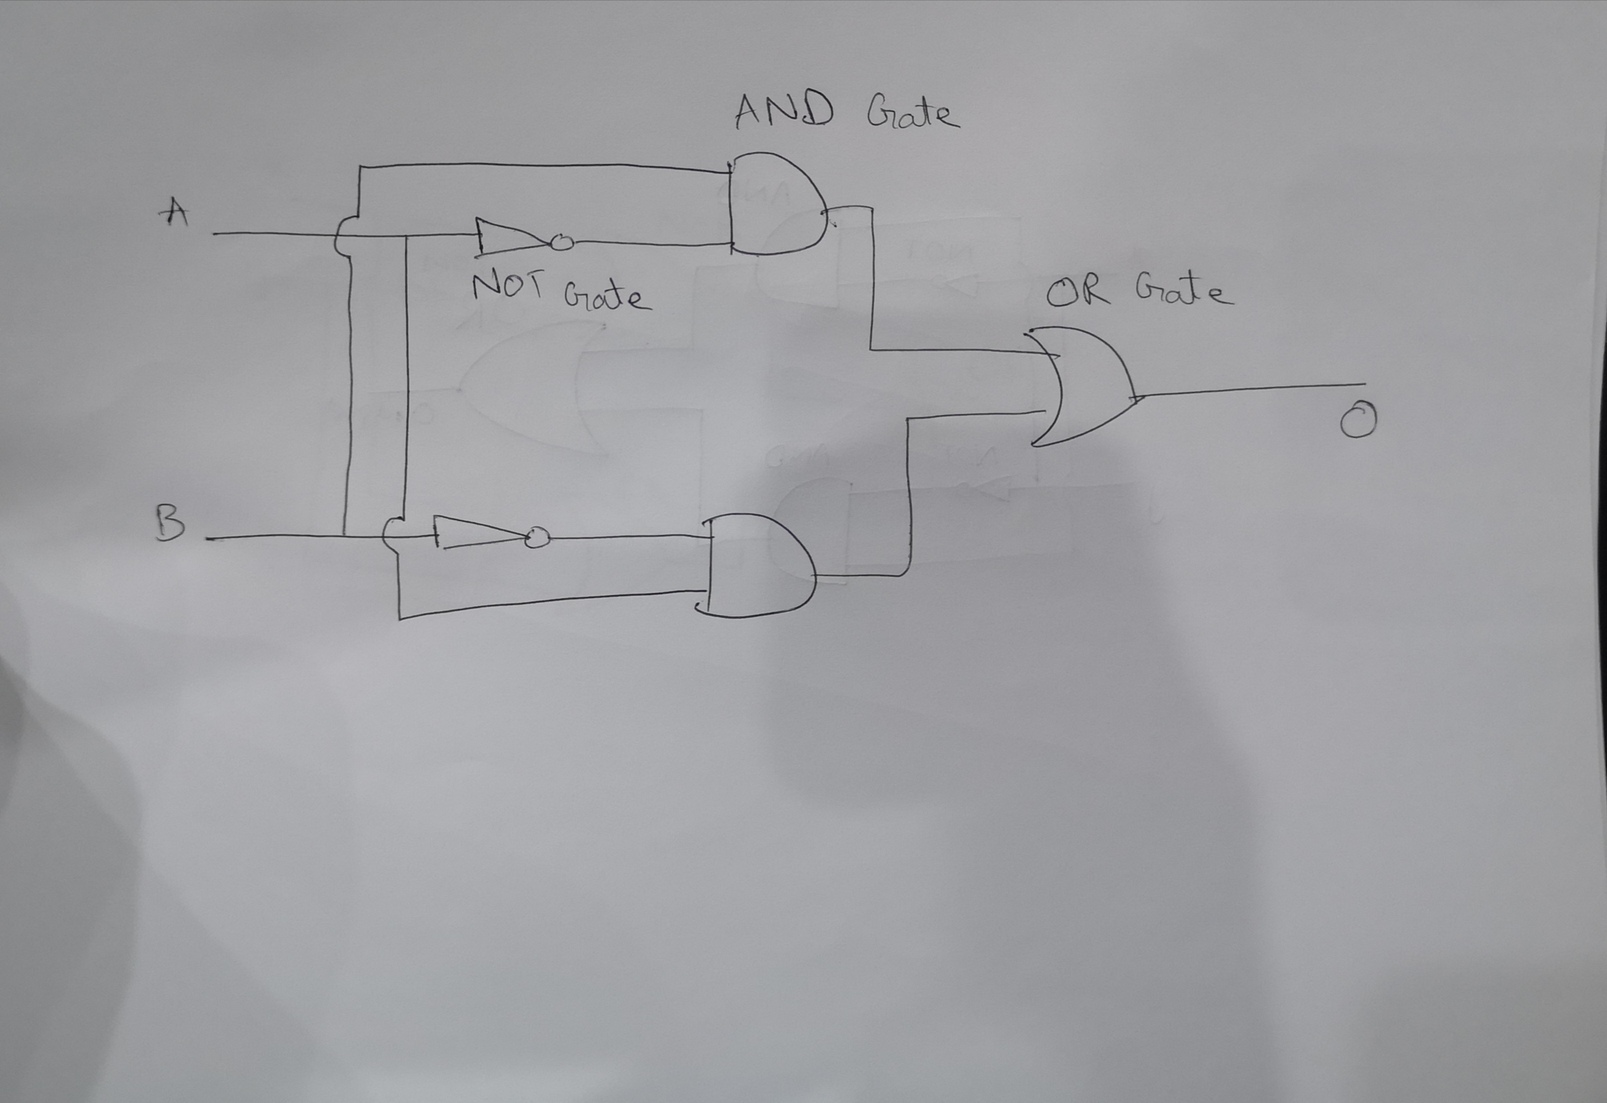and: (689, 506, 821, 625), (722, 147, 833, 264)
crossover: (332, 211, 365, 263), (379, 514, 410, 557)
junction: (890, 558, 916, 585), (350, 158, 370, 177), (899, 410, 920, 428), (335, 524, 350, 545), (862, 199, 880, 216), (861, 340, 879, 357), (398, 228, 414, 246), (393, 610, 409, 627)
not: (429, 507, 554, 557), (470, 213, 582, 263)
or: (1018, 322, 1145, 454)
terminal: (204, 224, 232, 244), (199, 526, 219, 548), (1354, 375, 1371, 390)
text: (728, 83, 961, 136), (469, 264, 658, 311), (1040, 266, 1235, 311), (148, 497, 193, 547), (1336, 396, 1384, 441), (154, 191, 193, 233)
